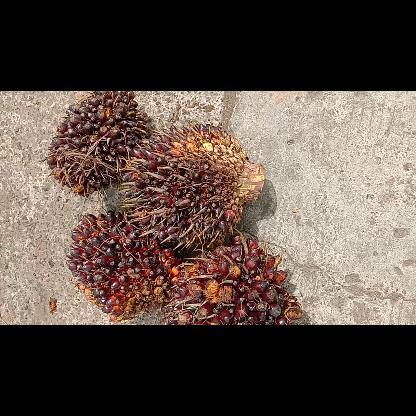Kurang masak: (115, 116, 269, 248), (63, 207, 183, 324), (164, 234, 304, 324), (45, 90, 153, 198)
